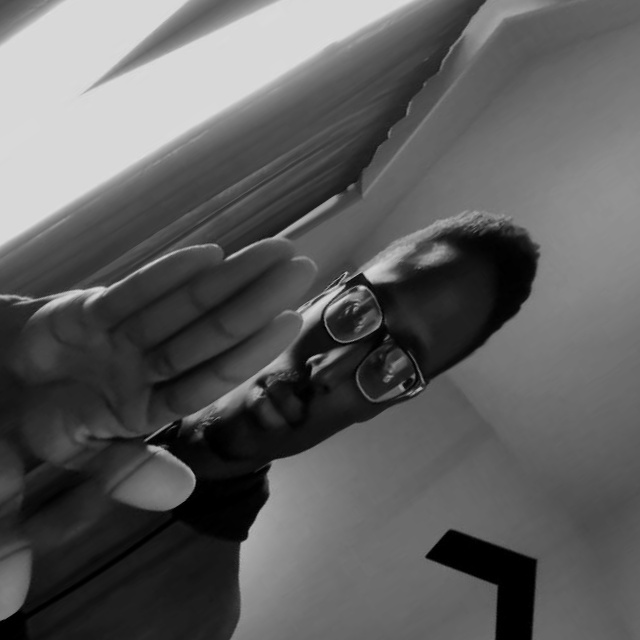Paper: (0, 166, 387, 556)
